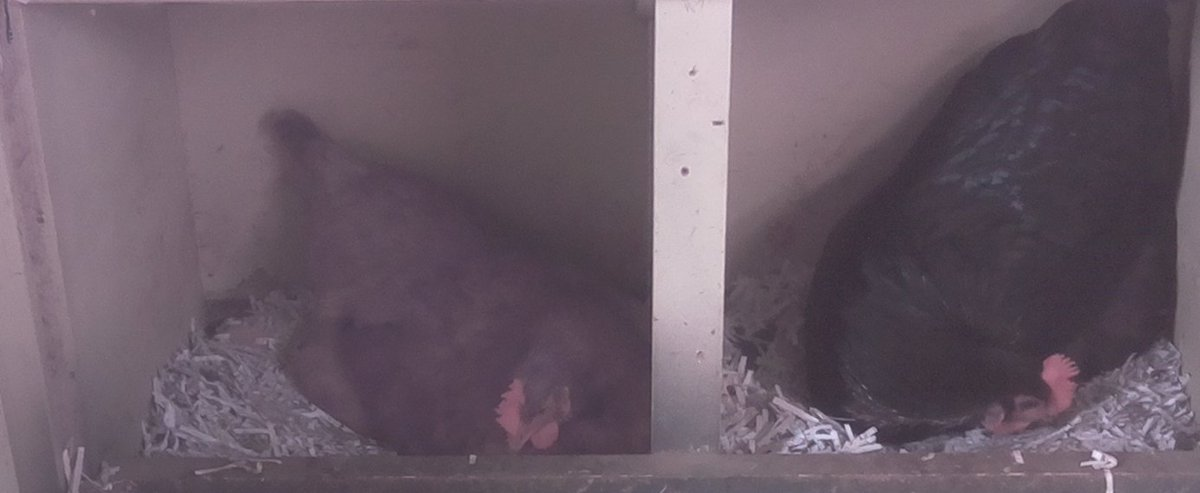hen: (794, 2, 1183, 445), (262, 118, 647, 451)
